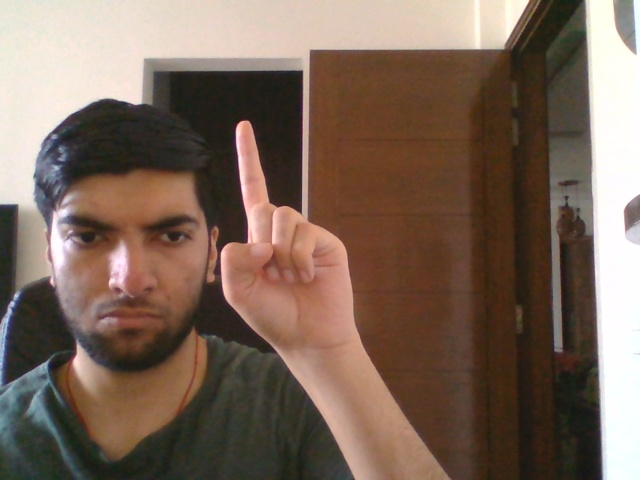LetterD: (219, 119, 357, 349)
